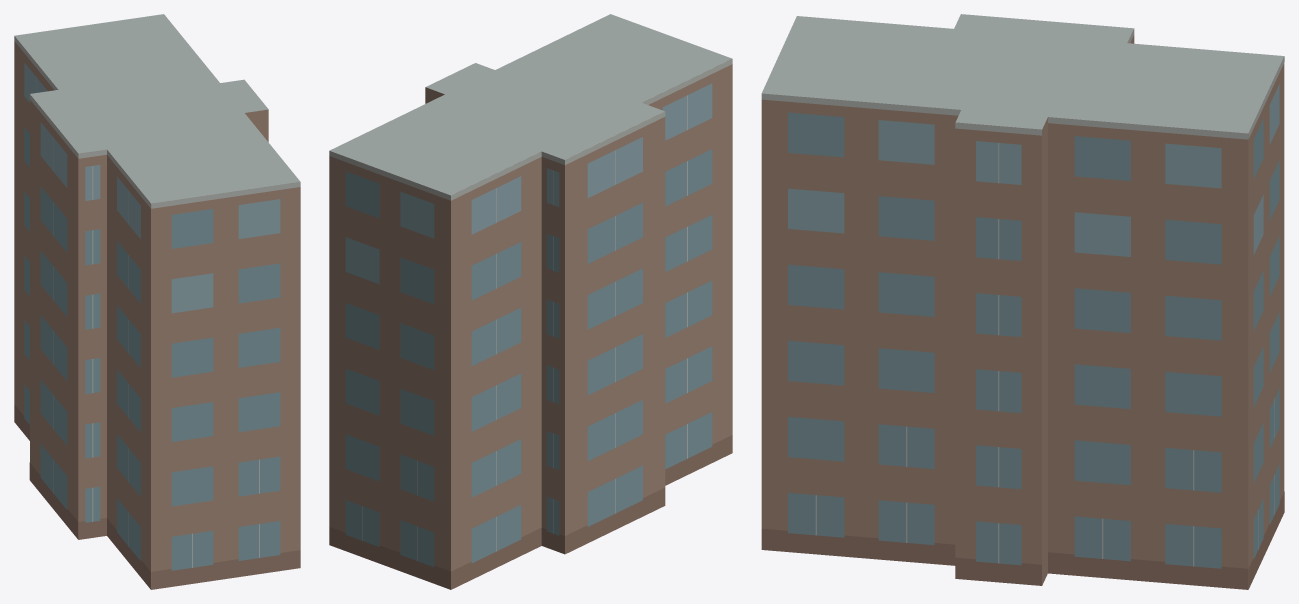
File: survey-upis-32754449.glb
3 views of the same model, side by side, from view 1: azimuth 30°, elevation 25°; view 2: azimuth 150°, elevation 25°; view 3: azimuth 270°, elevation 25° (orthographic). The views are drawn at different scales.
Visible parts, largest first — view 1: survey-upis-32754449.tmp; view 2: survey-upis-32754449.tmp; view 3: survey-upis-32754449.tmp.
Part boxes in pixels (bbox=[...]): survey-upis-32754449.tmp: bbox=[14, 14, 300, 589]; survey-upis-32754449.tmp: bbox=[329, 14, 732, 589]; survey-upis-32754449.tmp: bbox=[761, 14, 1284, 589].
Size of the model in its own units: 10.29 by 18.3 by 19.01.
